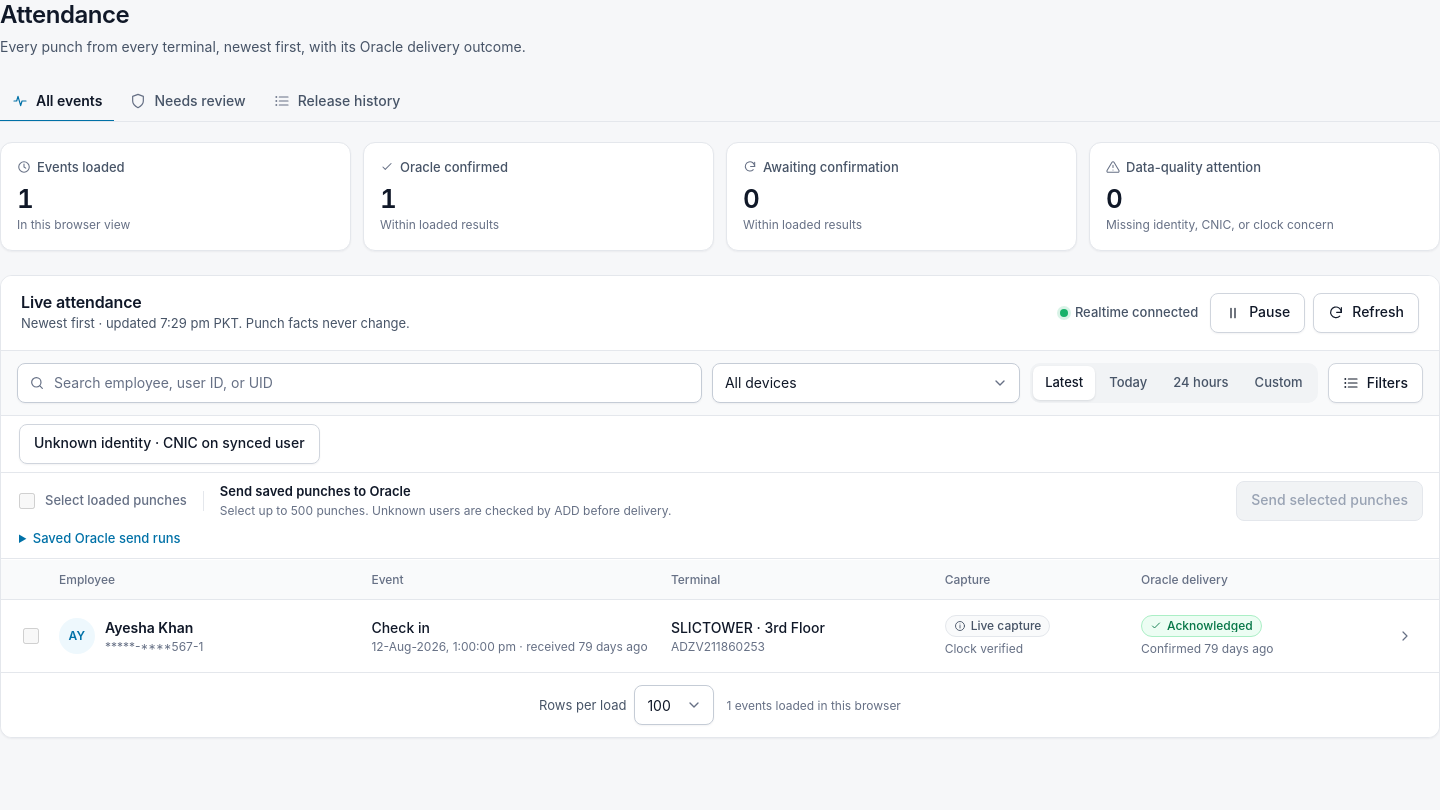
Scenario: Live attendance workspace › defaults to an all-source live chronology with loaded-result metrics and human labels
Check: the text "SLICTOWER · 3rd Floor" is shown, box 671,619 -> 825,636
Check: the text "Live capture" is shown, box 971,620 -> 1041,632
Click the heading named "view event details" at (1405,636), box 1397,628 -> 1413,644
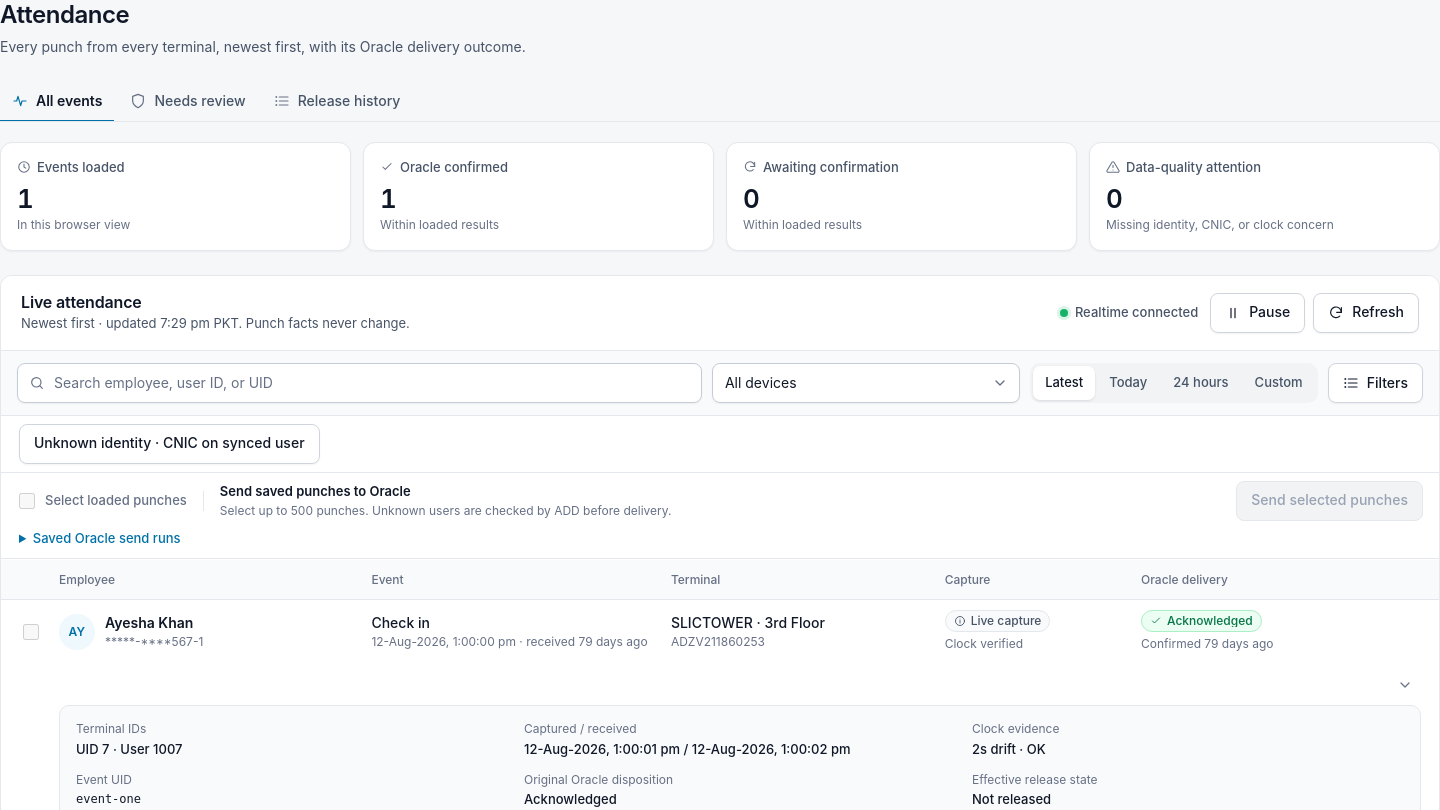
Check: the text "event-one" is shown, box 76,792 -> 141,806
